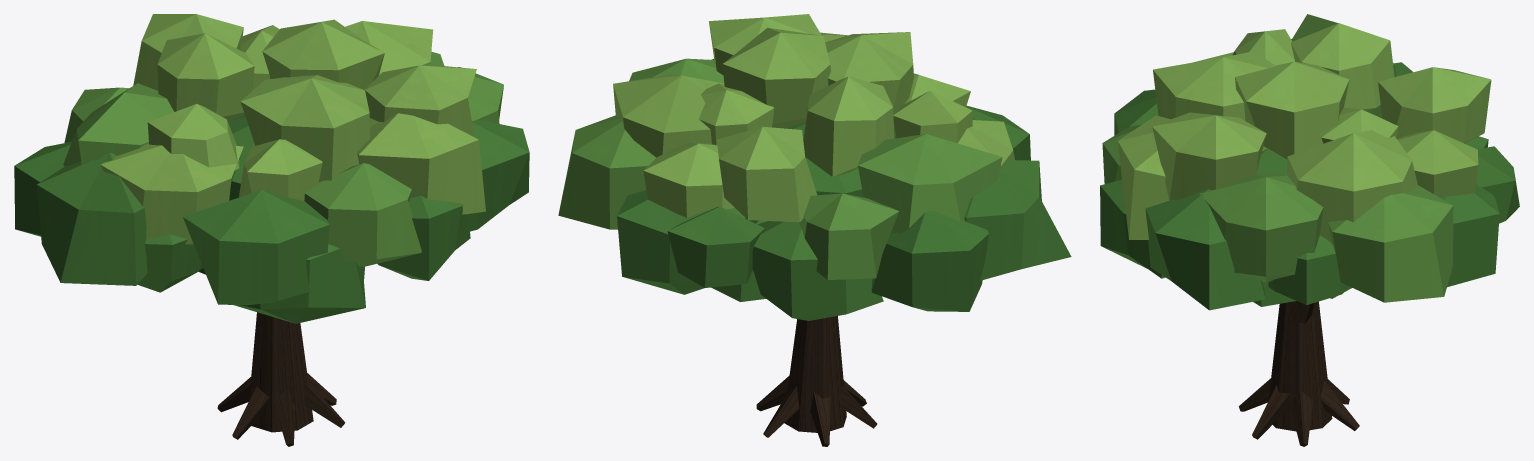
Rendered from tree_broadleaf_02.glb.
3 renders of one model, left to right at view 1: azimuth 30°, elevation 25°; view 2: azimuth 150°, elevation 25°; view 3: azimuth 270°, elevation 25°, orthographic. The views are drawn at different scales.
Parts seen in each view (by area): view 1: tree_broadleaf_02; view 2: tree_broadleaf_02; view 3: tree_broadleaf_02.
Boxes of the visible parts, <box> form: tree_broadleaf_02: <box>14,14,529,446</box>; tree_broadleaf_02: <box>558,14,1071,446</box>; tree_broadleaf_02: <box>1100,14,1519,446</box>.
Size of the model in its own units: 6.74 by 5.58 by 5.61.
5 materials, 5 textured.
